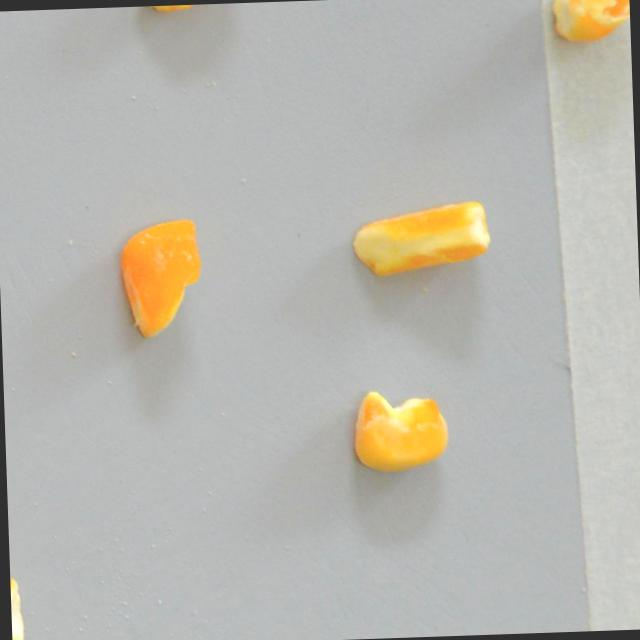dañado: (107, 209, 210, 344), (349, 387, 450, 475)
pelicula: (349, 201, 495, 277), (546, 0, 631, 47), (135, 2, 250, 18), (8, 566, 27, 640)
